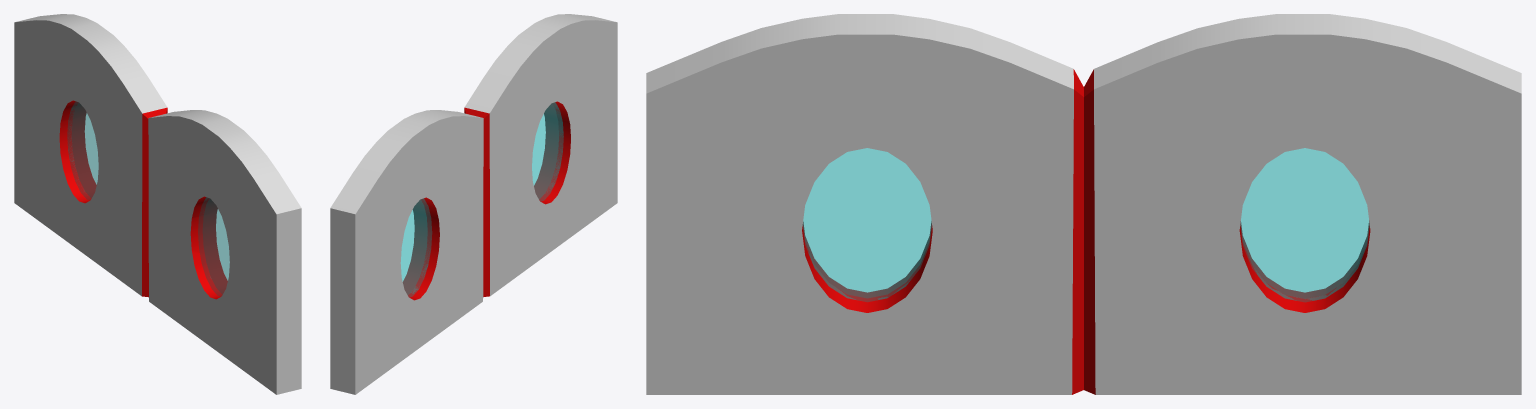
The model's file is gate4.fbx.
The picture shows the model from 3 angles, left to right: view 1: azimuth 30°, elevation 25°; view 2: azimuth 150°, elevation 25°; view 3: azimuth 270°, elevation 25°; orthographic projection. The views are drawn at different scales.
Visible parts, largest first — view 1: polySurface1, polySurface2, pCylinder2, pCylinder1; view 2: polySurface2, polySurface1, pCylinder2, pCylinder1; view 3: polySurface2, polySurface1, pCylinder1, pCylinder2.
Boxes of the visible parts, left/top/right/bottom form: polySurface1: left=148, top=110, right=301, bottom=394; polySurface2: left=14, top=14, right=167, bottom=297; pCylinder2: left=198, top=197, right=229, bottom=296; pCylinder1: left=67, top=102, right=98, bottom=199; polySurface2: left=330, top=110, right=483, bottom=394; polySurface1: left=464, top=14, right=617, bottom=296; pCylinder2: left=532, top=102, right=563, bottom=201; pCylinder1: left=400, top=198, right=431, bottom=297; polySurface2: left=1084, top=14, right=1521, bottom=394; polySurface1: left=646, top=14, right=1083, bottom=394; pCylinder1: left=1240, top=148, right=1369, bottom=301; pCylinder2: left=802, top=148, right=931, bottom=301.
Size of the model in its own units: 0.2643 by 2.16 by 4.76.
